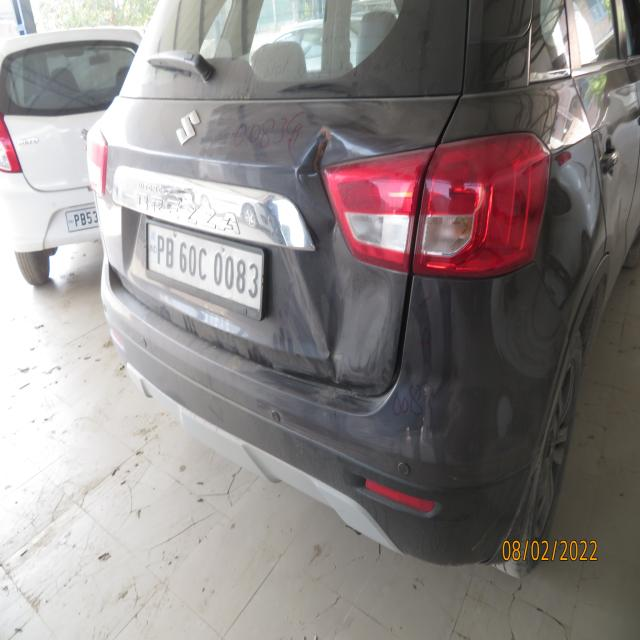damage: (290, 118, 375, 372)
